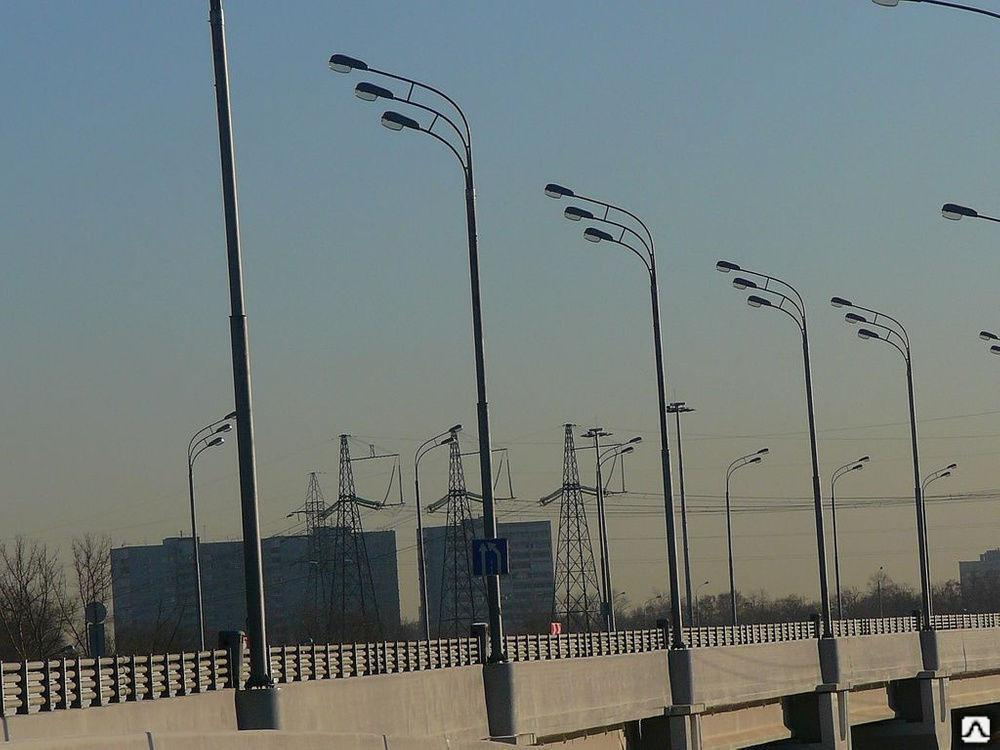Animal: (339, 40, 530, 745), (548, 160, 697, 612), (715, 243, 836, 655), (843, 280, 947, 650), (180, 413, 239, 656), (726, 446, 769, 674), (909, 460, 957, 656), (593, 422, 631, 656), (823, 447, 856, 673)
